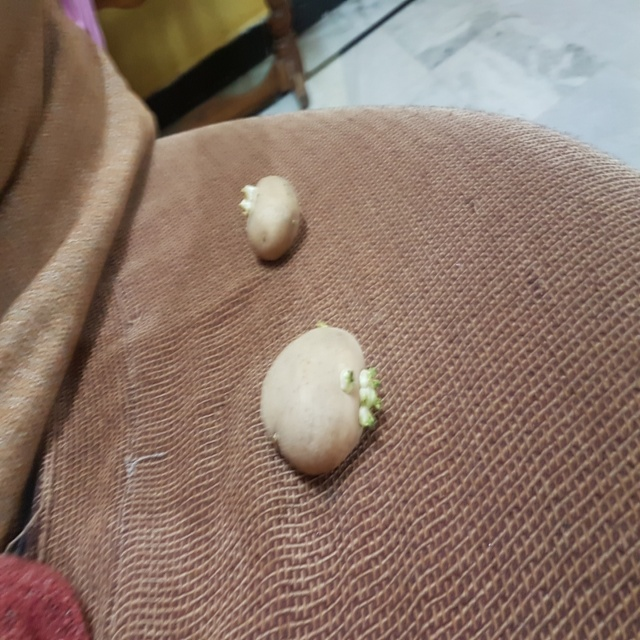potato: (257, 319, 388, 479), (231, 174, 308, 263)
